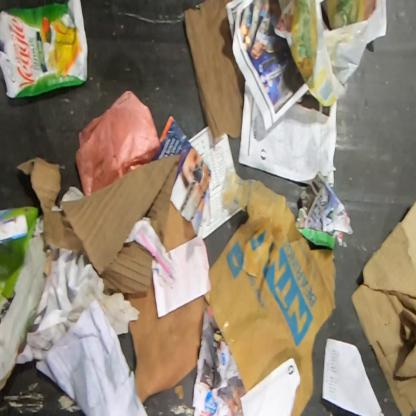cardboard: (208, 171, 336, 415), (16, 148, 197, 293), (351, 202, 415, 415), (125, 272, 204, 402), (184, 1, 246, 143), (0, 206, 38, 300)
soft_plastic: (274, 0, 387, 107), (74, 90, 161, 196), (0, 0, 89, 99)
